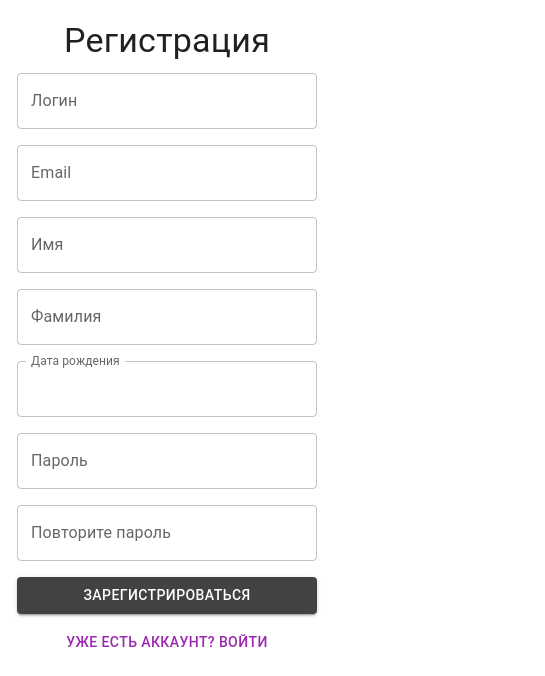
it: Register Page › an error is displayed when passwords do not match
Type "newuser" into the field labelled "Логин" at (167, 101), box [17,71,317,131]
Type "user@example.com" into the field labelled "Email" at (167, 173), box [17,143,317,203]
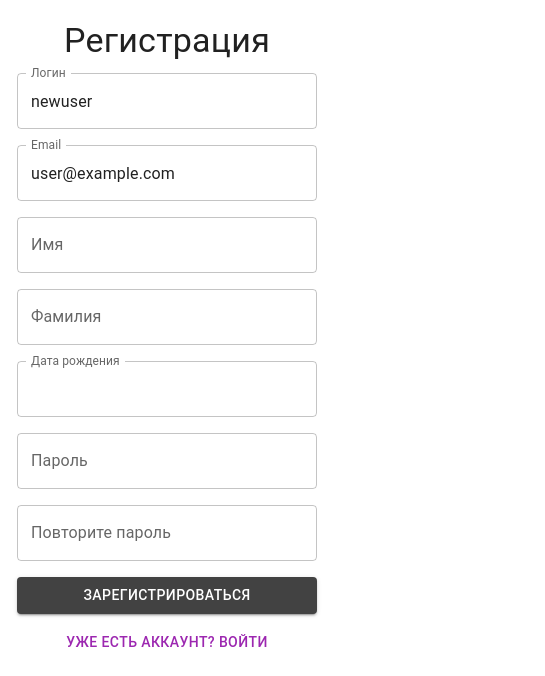
Type "Имя" into the field labelled "Имя" at (167, 245), box [17,215,317,275]
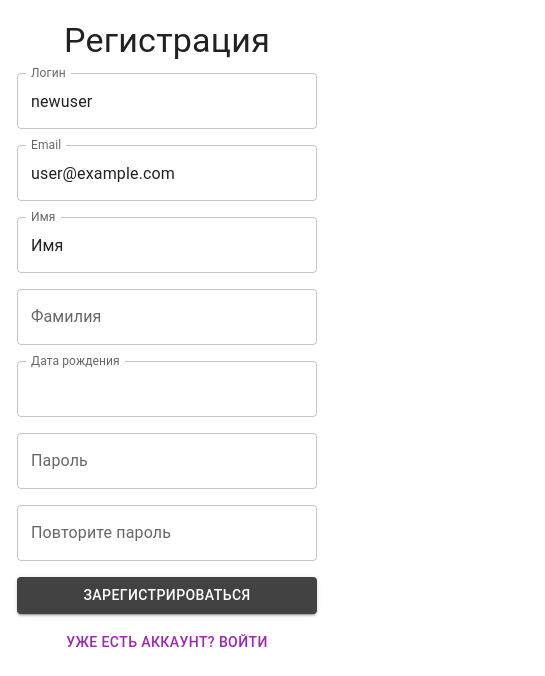
Type "Фамилия" into the field labelled "Фамилия" at (167, 317), box [17,287,317,347]
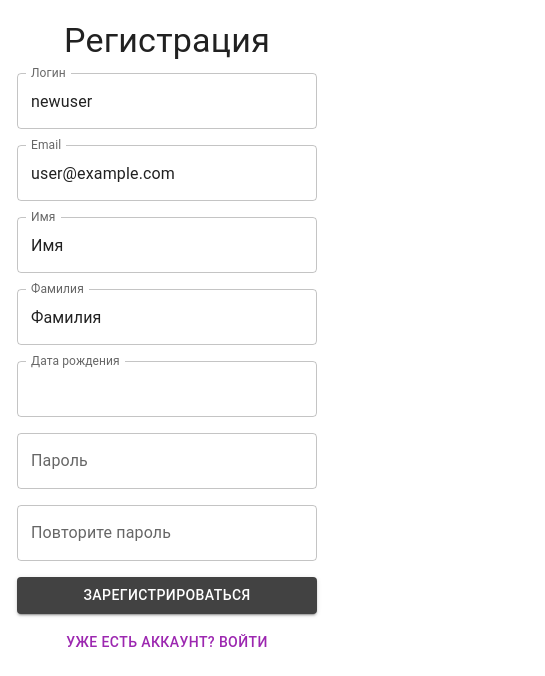
Type "password123" into the password field labelled "Пароль" at (167, 461), box [17,431,317,491]
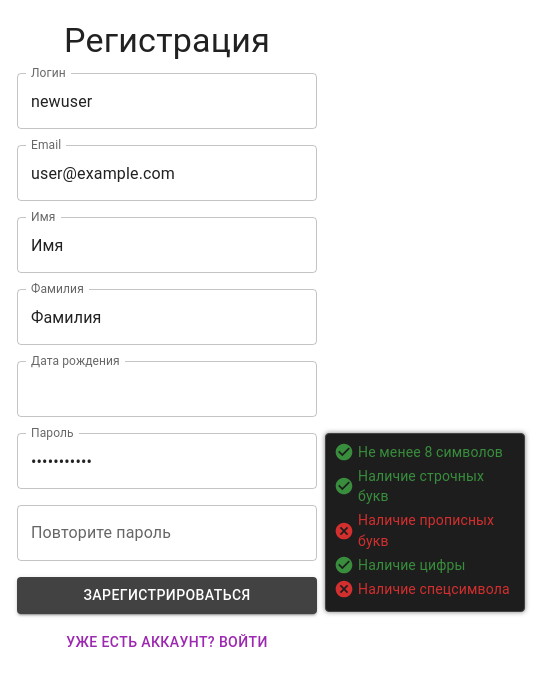
Type "differentPassword" into the password field labelled "Повторите пароль" at (167, 533), box [17,503,317,563]
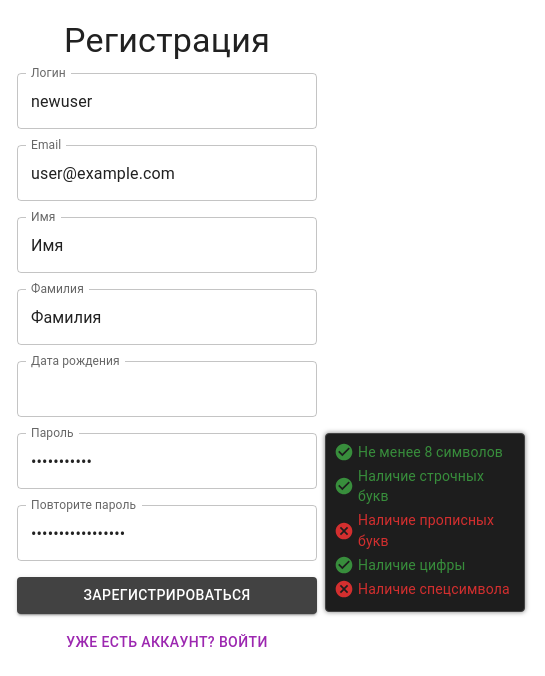
Click the button with test id "register-submit" at (167, 596), box [17,577,317,614]
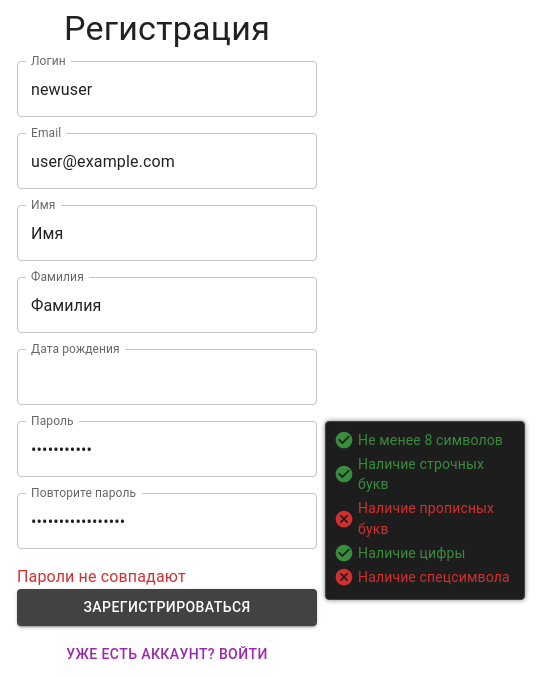
Now the text "Пароли не совпадают" is shown, box [17,567,186,586]
